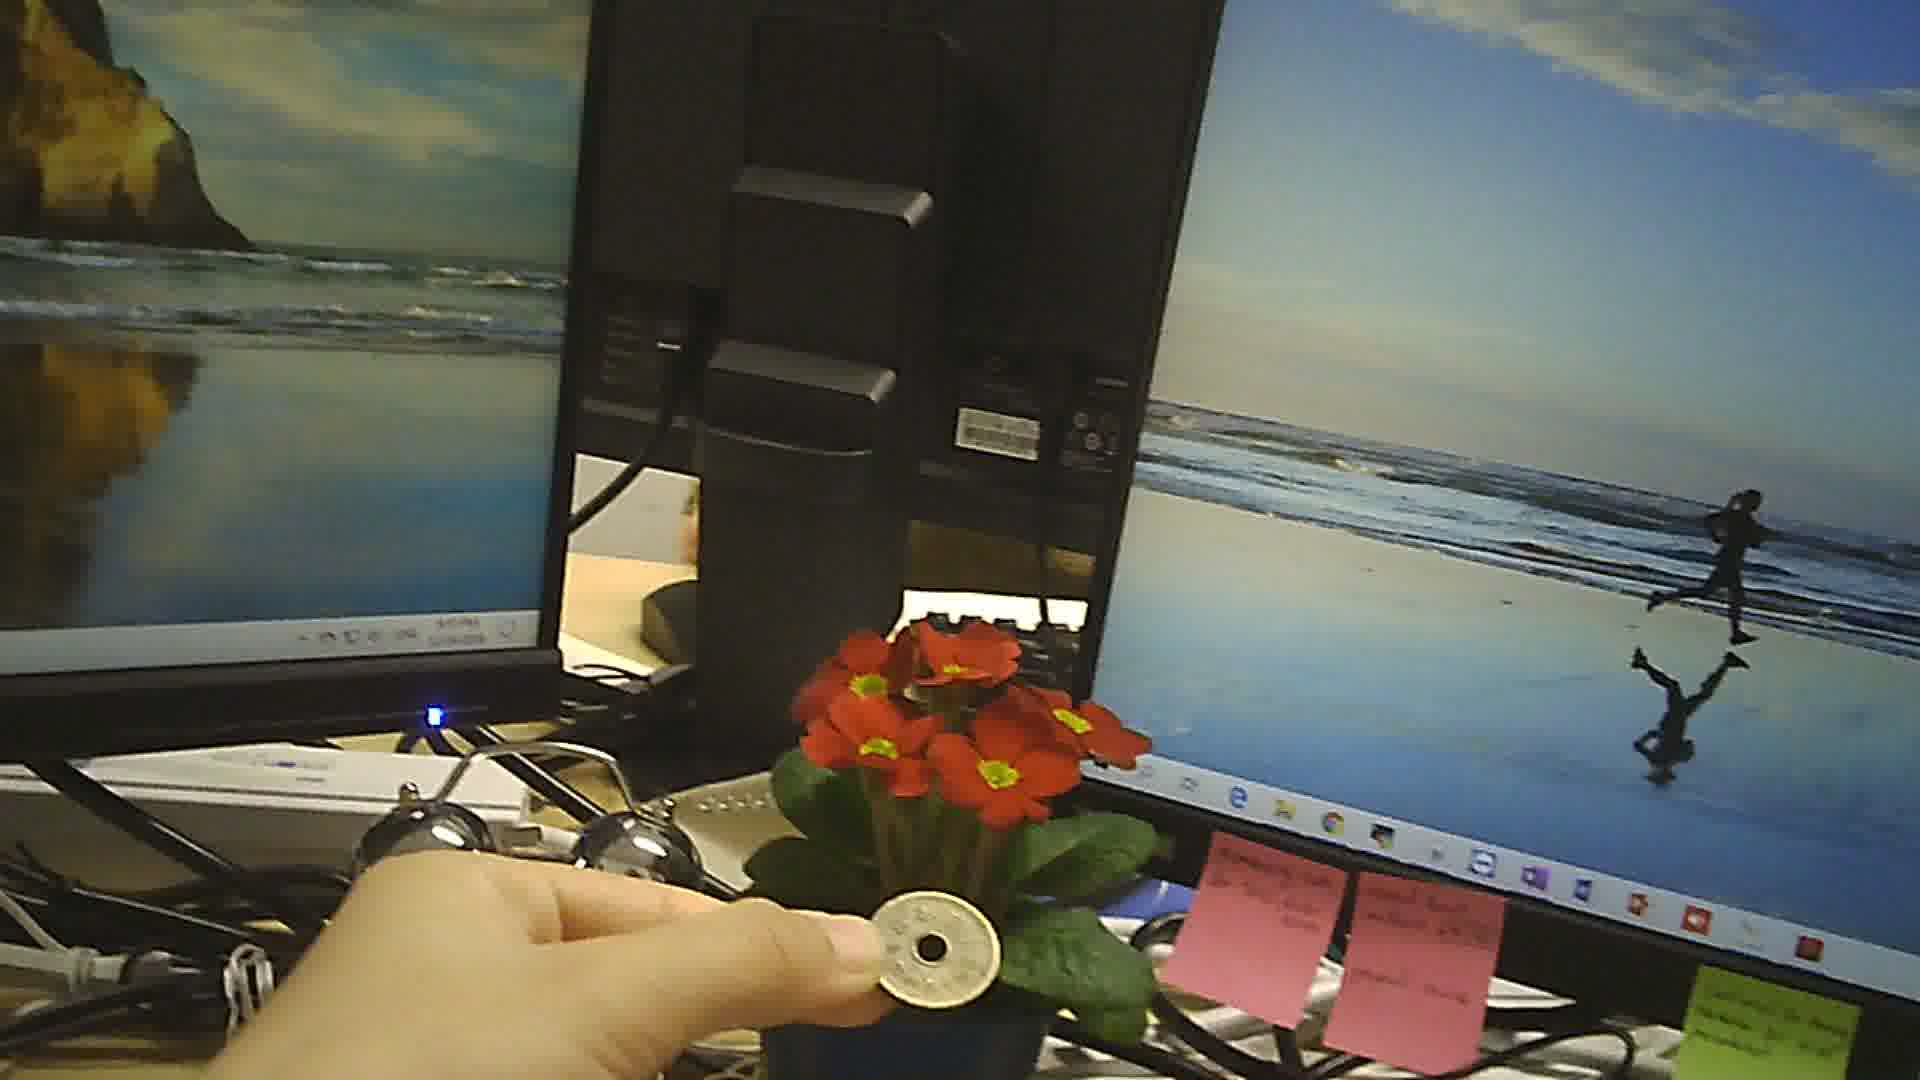5 Yen: (856, 880, 1005, 1017)
